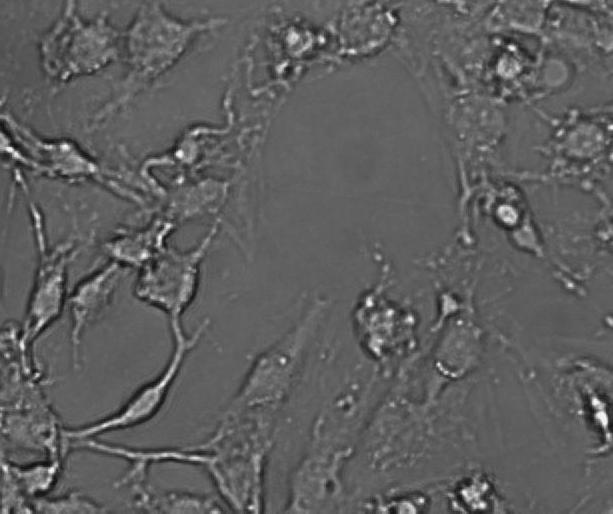Dead: (354, 294, 421, 359), (574, 377, 613, 459), (450, 476, 502, 510), (490, 197, 525, 230), (287, 28, 321, 61), (493, 52, 528, 84), (540, 52, 570, 89), (286, 27, 301, 47)
